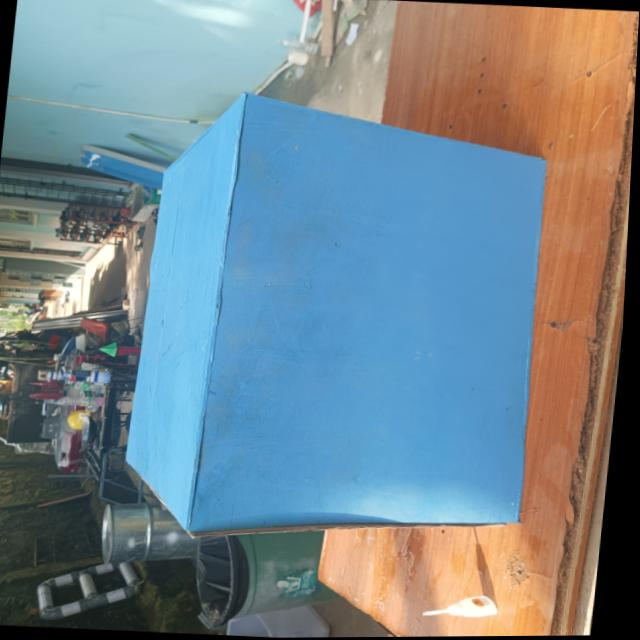blue_box: (85, 70, 603, 546)
